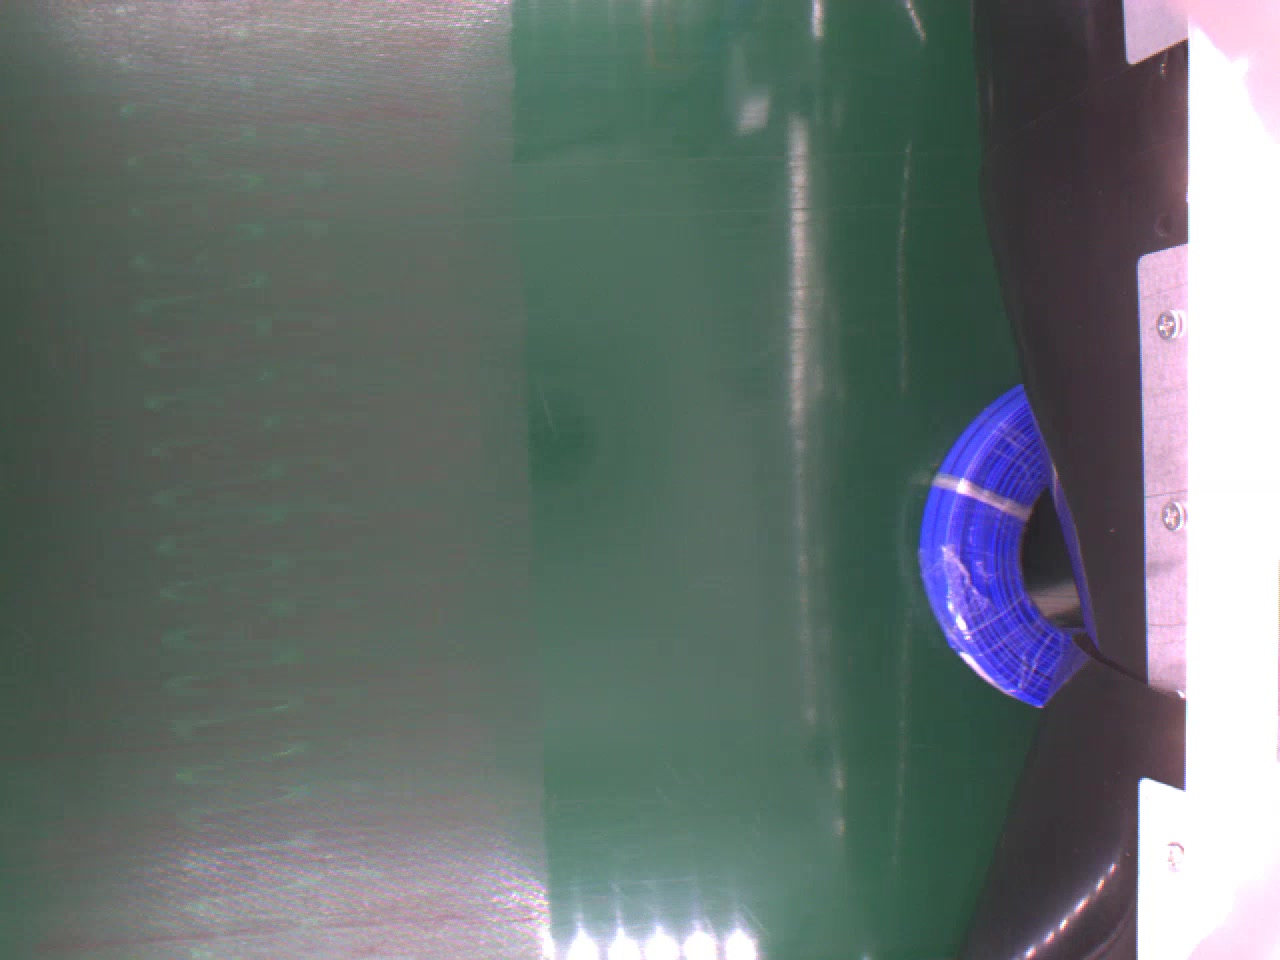blue: (920, 387, 1089, 705)
